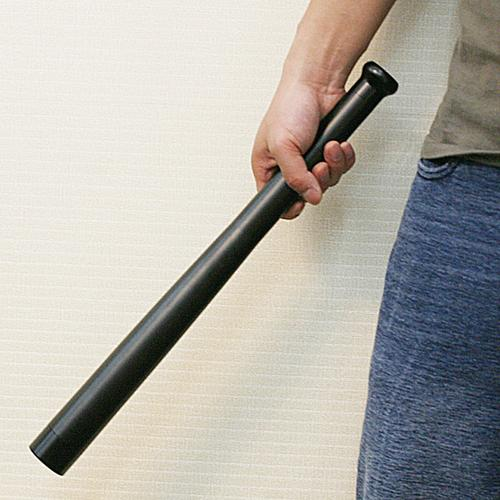no-phone: (217, 44, 404, 302)
